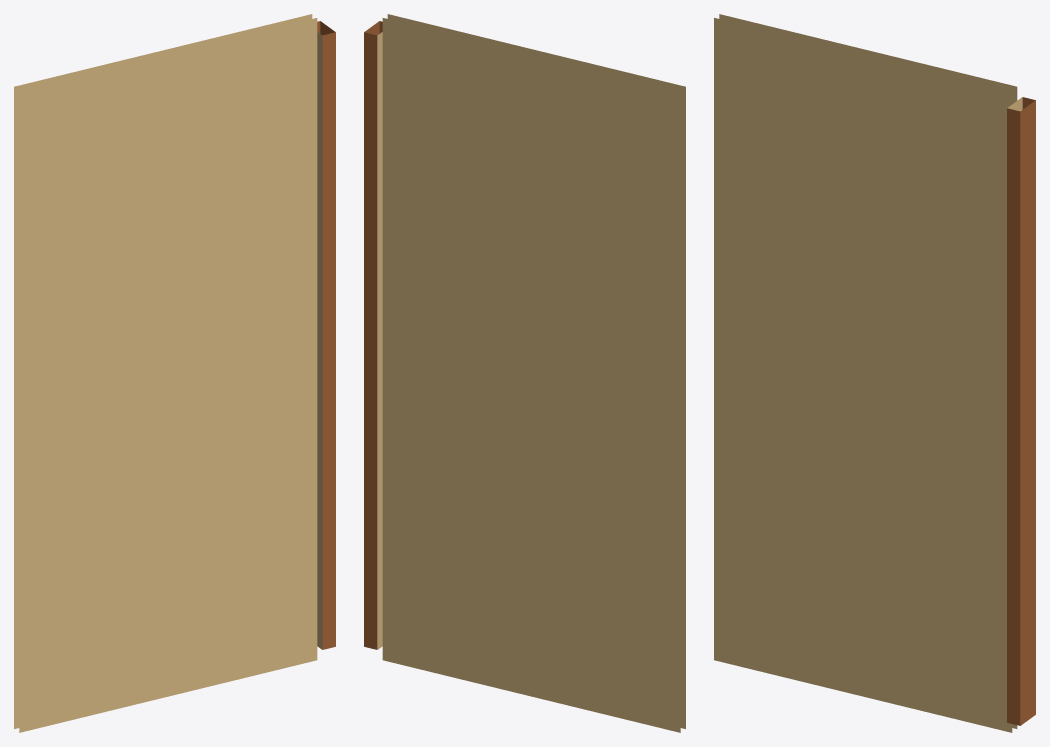
File: cabinet_top.dae
3 renders of one model, left to right at view 1: azimuth 30°, elevation 25°; view 2: azimuth 150°, elevation 25°; view 3: azimuth 330°, elevation 25°, orthographic.
Visible parts, largest first — view 1: TOP_8 (×2), HR_7 (×2); view 2: TOP_8 (×2), HR_7 (×2); view 3: TOP_8 (×2), HR_7.
Part boxes in pixels (x1=…): TOP_8 (×2): x1=14, y1=14, x2=317, y2=732; HR_7 (×2): x1=317, y1=21, x2=335, y2=649; TOP_8 (×2): x1=382, y1=14, x2=685, y2=732; HR_7 (×2): x1=364, y1=21, x2=382, y2=649; TOP_8 (×2): x1=714, y1=14, x2=1017, y2=732; HR_7: x1=1007, y1=97, x2=1035, y2=725.
Size of the model in its own units: 17.5 by 34.5 by 1.5.
